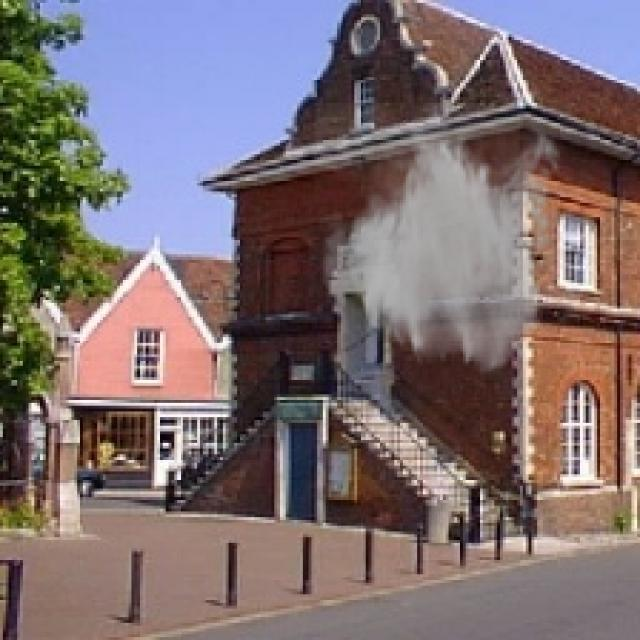Smoke: (314, 102, 569, 378)
